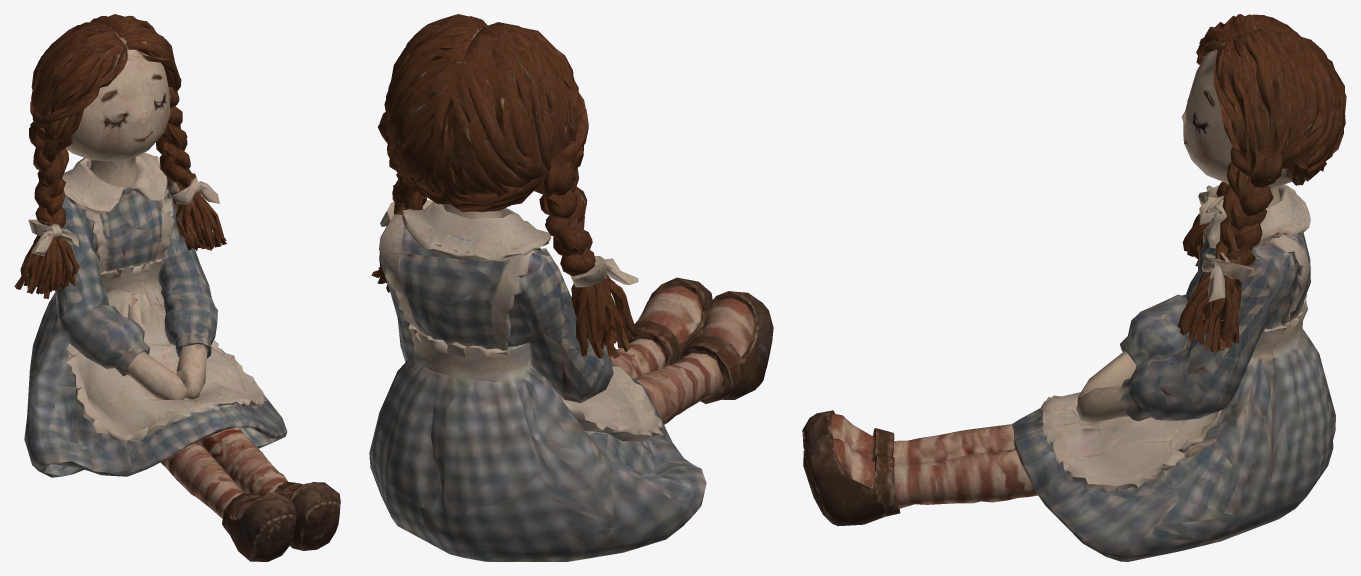
Rendered from up_doll_rag.glb.
The picture shows the model from 3 angles, left to right: view 1: azimuth 30°, elevation 25°; view 2: azimuth 150°, elevation 25°; view 3: azimuth 270°, elevation 25°; orthographic projection. The views are drawn at different scales.
Parts seen in each view (by area): view 1: up_doll_rag; view 2: up_doll_rag; view 3: up_doll_rag.
Boxes of the visible parts, x1,y1,x2,y2 form: up_doll_rag: (14,14,340,561); up_doll_rag: (369,14,773,561); up_doll_rag: (802,14,1346,561).
Bounding box in the file's own units: 0.2762 × 0.45 × 0.4638.
1 material, 1 textured.
